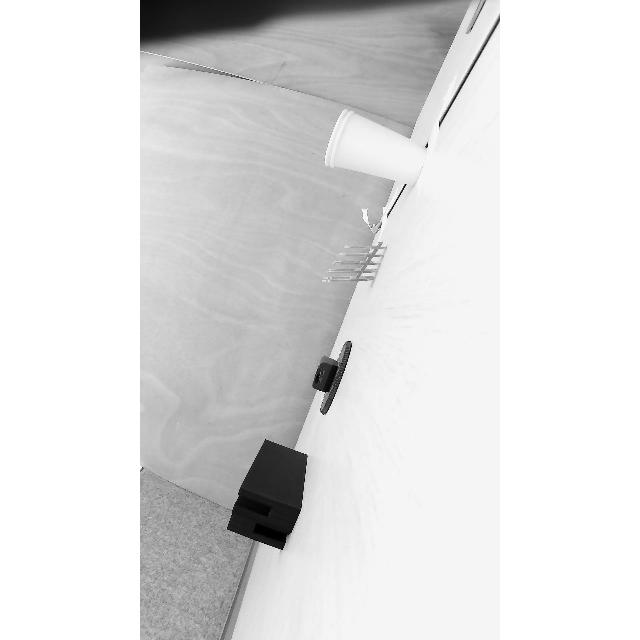targets: (217, 438, 316, 552), (319, 106, 427, 184), (304, 339, 356, 416), (318, 238, 389, 284)
